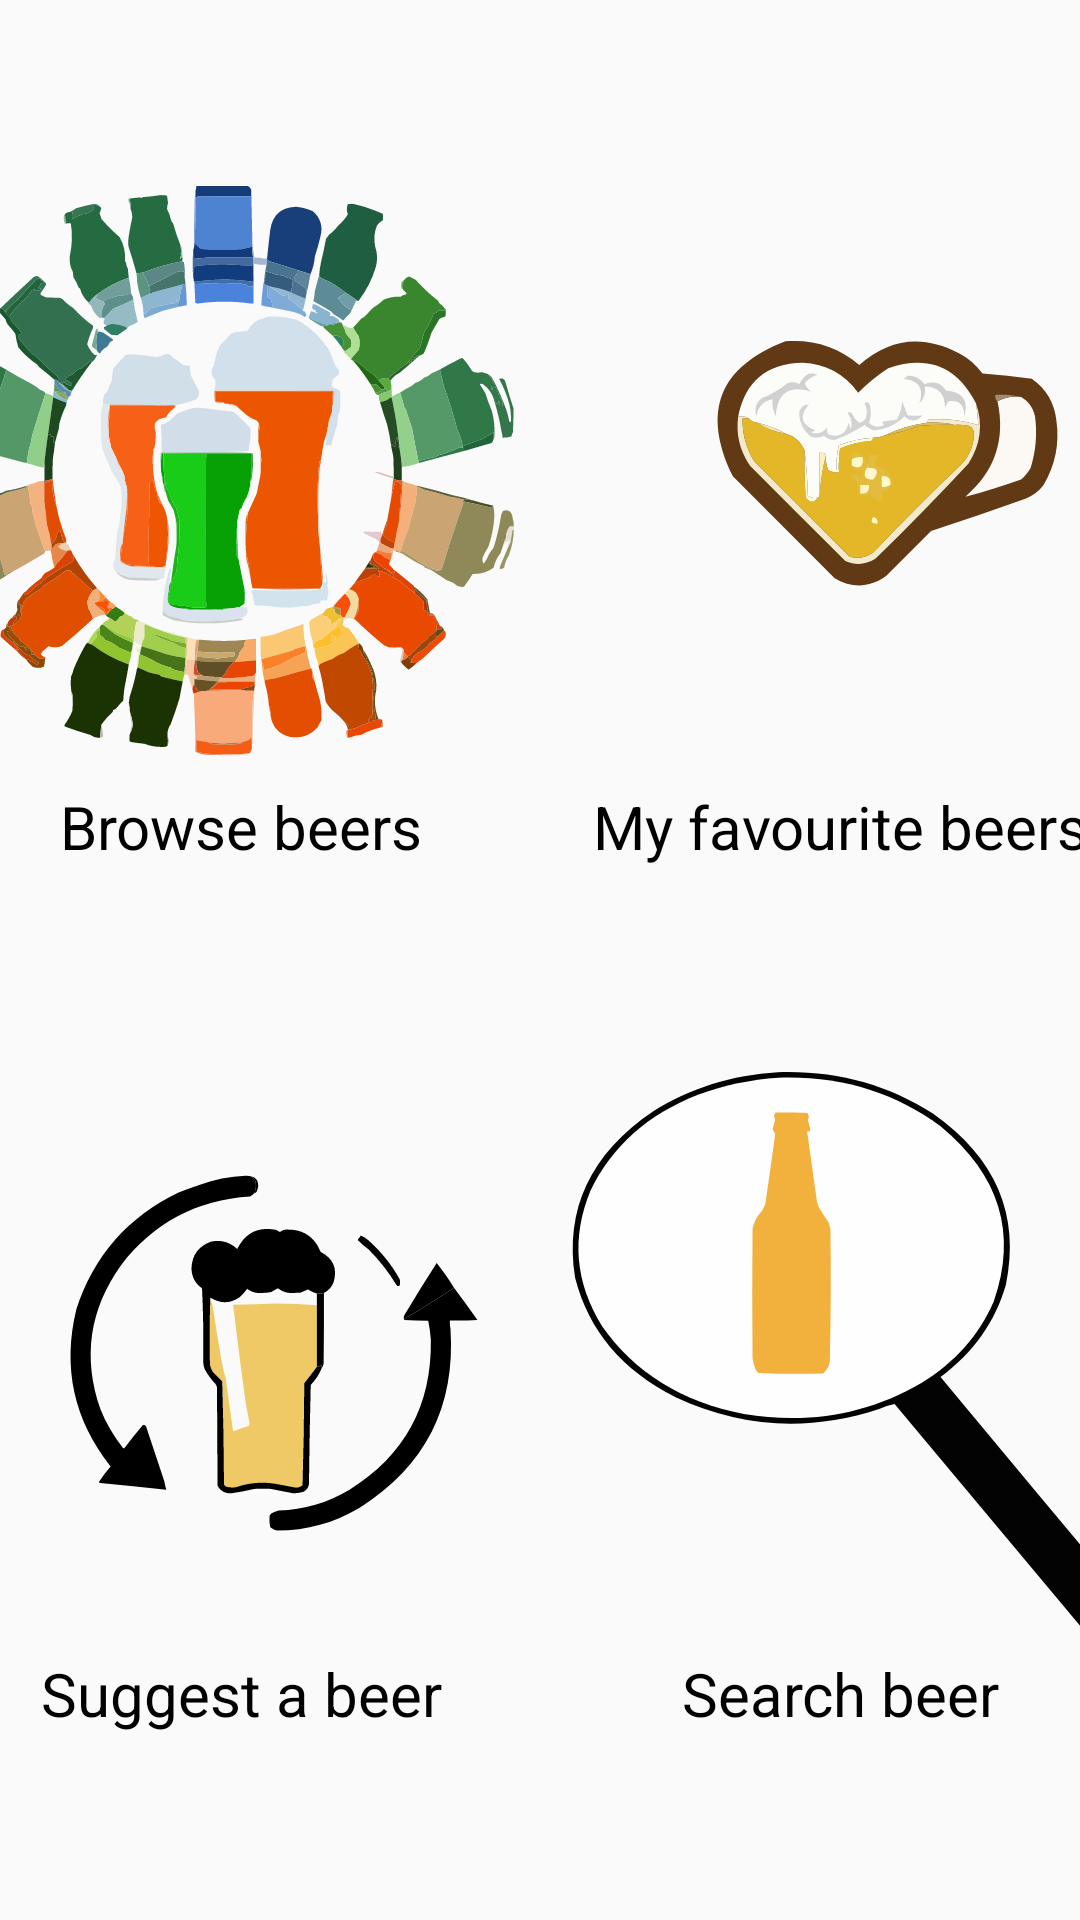

Screen size 1080x1920. Icon name, then its center in pixels as point (x, y):
liked beers: point (887, 463)
